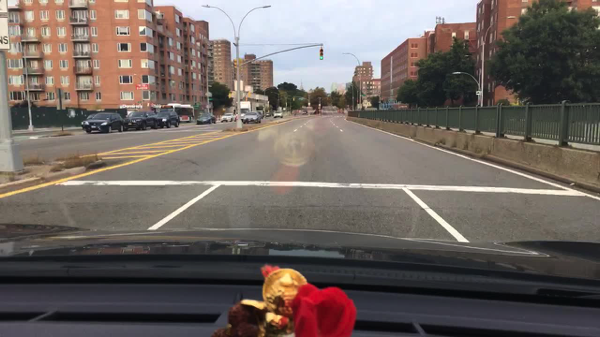bus: (152, 103, 196, 124)
car: (84, 111, 125, 134), (123, 110, 159, 132), (157, 110, 182, 129), (81, 113, 101, 130), (242, 111, 263, 125), (196, 112, 218, 125), (220, 112, 237, 123), (237, 108, 250, 122), (273, 110, 284, 119), (256, 110, 263, 118), (269, 110, 276, 117), (265, 112, 271, 117), (301, 110, 307, 115)
traffic light: (318, 49, 324, 60), (232, 59, 237, 69), (233, 70, 237, 80), (228, 92, 231, 100)
traffic sign: (0, 16, 12, 51), (55, 88, 66, 111), (234, 80, 244, 91), (0, 1, 8, 14), (297, 98, 305, 102), (206, 104, 212, 109), (475, 90, 480, 96), (360, 93, 366, 98), (307, 101, 312, 106)
